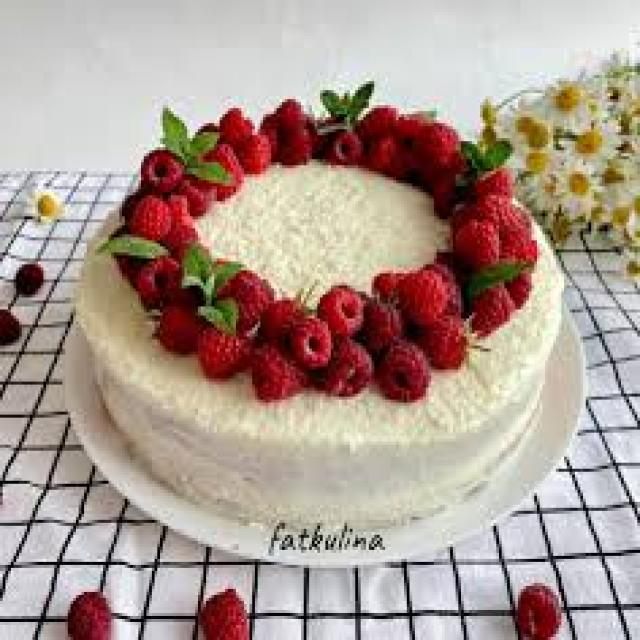Wet Waste: (53, 80, 589, 564)
